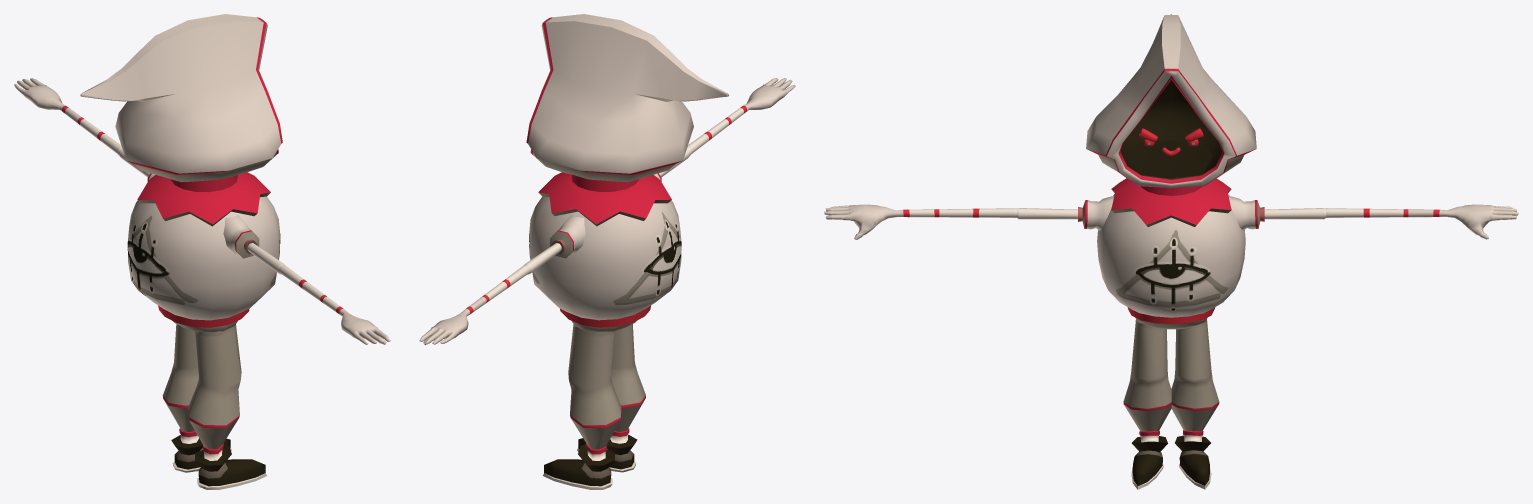
The model's file is Eye Wizard.glb.
3 views of the same model, side by side, from view 1: azimuth 30°, elevation 25°; view 2: azimuth 150°, elevation 25°; view 3: azimuth 270°, elevation 25° (orthographic). The views are drawn at different scales.
Parts seen in each view (by area): view 1: _100Avatars_113_EyeWizard; view 2: _100Avatars_113_EyeWizard; view 3: _100Avatars_113_EyeWizard.
Part boxes in pixels (<box>): _100Avatars_113_EyeWizard: <box>14,14,390,489</box>; _100Avatars_113_EyeWizard: <box>419,14,795,489</box>; _100Avatars_113_EyeWizard: <box>824,14,1518,489</box>.
Size of the model in its own units: 2.71 by 6.16 by 8.85.
Materials: 1 (1 with a texture image).
